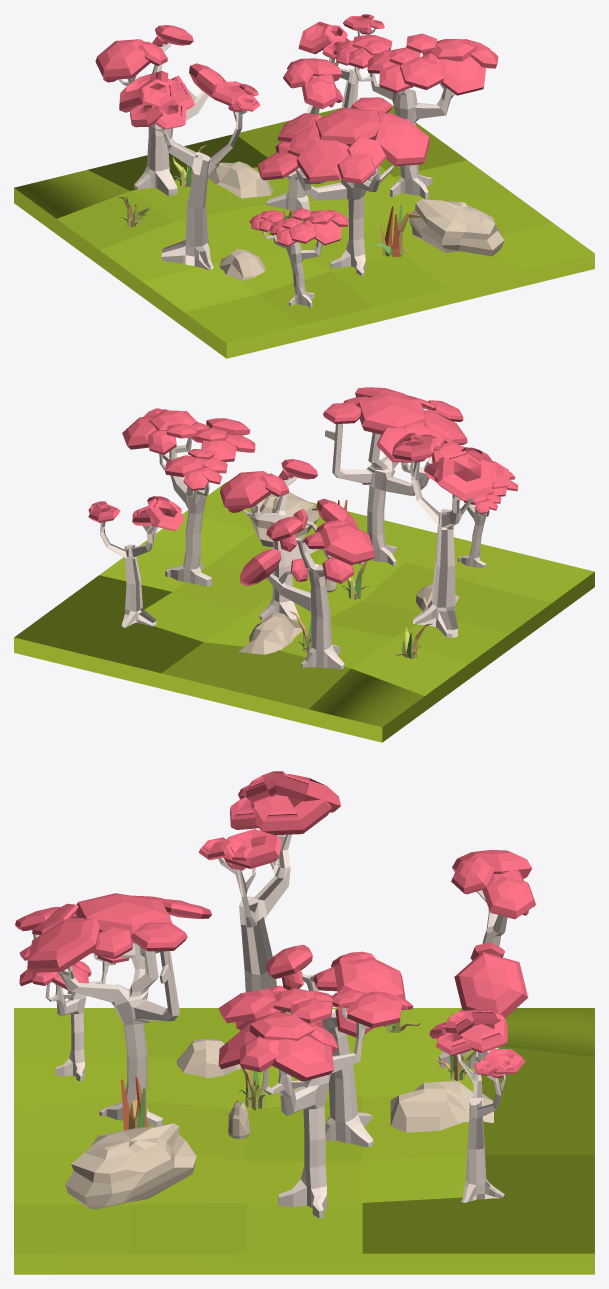
Rendered from floortile_1_pivot_GOED.fbx.
The picture shows the model from 3 angles, top to bottom: view 1: azimuth 30°, elevation 25°; view 2: azimuth 150°, elevation 25°; view 3: azimuth 270°, elevation 25°; orthographic projection. The views are drawn at different scales.
Visible parts, largest first — view 1: floortile, boom_7_MOD, boom_6_MOD, boom_3_MOD, boom_5_MOD, rock_2_MOD, boom_2_MOD, boom_1_MOD, boom_4_MOD, rock_3_MOD, rock_4_MOD, grasses_3_MOD; view 2: floortile, boom_7_MOD, boom_6_MOD, boom_5_MOD, boom_3_MOD, boom_1_MOD, boom_4_MOD, rock_3_MOD, boom_2_MOD, rock_2_MOD; view 3: floortile, boom_6_MOD, boom_7_MOD, boom_3_MOD, boom_5_MOD, boom_1_MOD, rock_2_MOD, boom_4_MOD, rock_3_MOD, boom_2_MOD, rock_4_MOD, grasses_3_MOD (+2 smaller).
Part boxes in pixels (x1,y1,x2,y2): floortile: [14, 98, 594, 358]; boom_7_MOD: [257, 97, 430, 275]; boom_6_MOD: [333, 33, 498, 199]; boom_3_MOD: [119, 71, 260, 269]; boom_5_MOD: [95, 25, 226, 195]; rock_2_MOD: [409, 199, 504, 256]; boom_2_MOD: [249, 208, 348, 307]; boom_1_MOD: [266, 58, 342, 210]; boom_4_MOD: [298, 14, 384, 108]; rock_3_MOD: [208, 161, 273, 198]; rock_4_MOD: [219, 249, 266, 280]; grasses_3_MOD: [372, 205, 421, 257]; floortile: [14, 482, 594, 742]; boom_7_MOD: [323, 387, 467, 566]; boom_6_MOD: [122, 408, 255, 586]; boom_5_MOD: [239, 516, 375, 669]; boom_3_MOD: [392, 433, 509, 637]; boom_1_MOD: [220, 459, 358, 621]; boom_4_MOD: [88, 496, 184, 627]; rock_3_MOD: [239, 612, 302, 654]; boom_2_MOD: [458, 471, 517, 567]; rock_2_MOD: [250, 491, 318, 548]; floortile: [14, 1008, 594, 1274]; boom_6_MOD: [218, 988, 413, 1218]; boom_7_MOD: [15, 893, 211, 1126]; boom_3_MOD: [198, 771, 340, 992]; boom_5_MOD: [439, 850, 535, 1068]; boom_1_MOD: [235, 944, 405, 1147]; rock_2_MOD: [65, 1123, 196, 1209]; boom_4_MOD: [429, 1009, 525, 1202]; rock_3_MOD: [390, 1080, 493, 1132]; boom_2_MOD: [19, 945, 128, 1081]; rock_4_MOD: [176, 1039, 241, 1077]; grasses_3_MOD: [120, 1076, 148, 1130].
Size of the model in its own units: 50.67 by 26.04 by 50.
